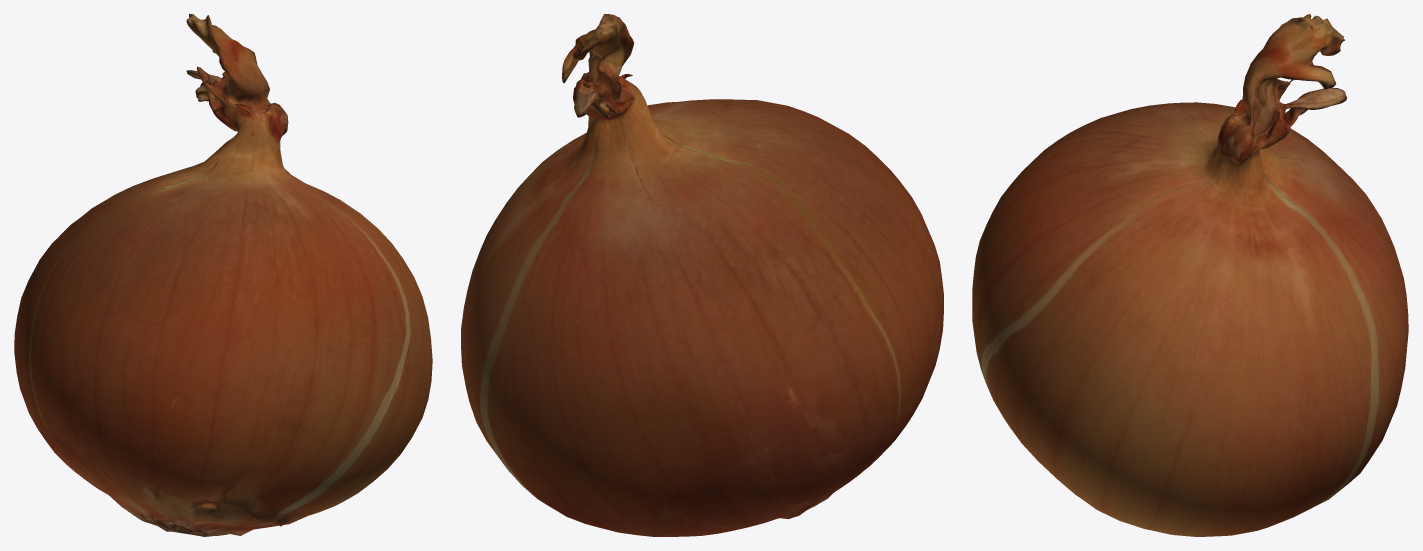
Rendered from yellow_onion.glb.
3 views of the same model, side by side, from view 1: azimuth 30°, elevation 25°; view 2: azimuth 150°, elevation 25°; view 3: azimuth 270°, elevation 25° (orthographic). The views are drawn at different scales.
Parts seen in each view (by area): view 1: yellow_onion; view 2: yellow_onion; view 3: yellow_onion.
Part boxes in pixels (x1,y1,x2,y2): yellow_onion: (14, 14, 432, 536); yellow_onion: (461, 14, 943, 536); yellow_onion: (972, 14, 1408, 536).
Bounding box in the file's own units: 0.0725 × 0.0864 × 0.0686.
Materials: 1 (1 with a texture image).
